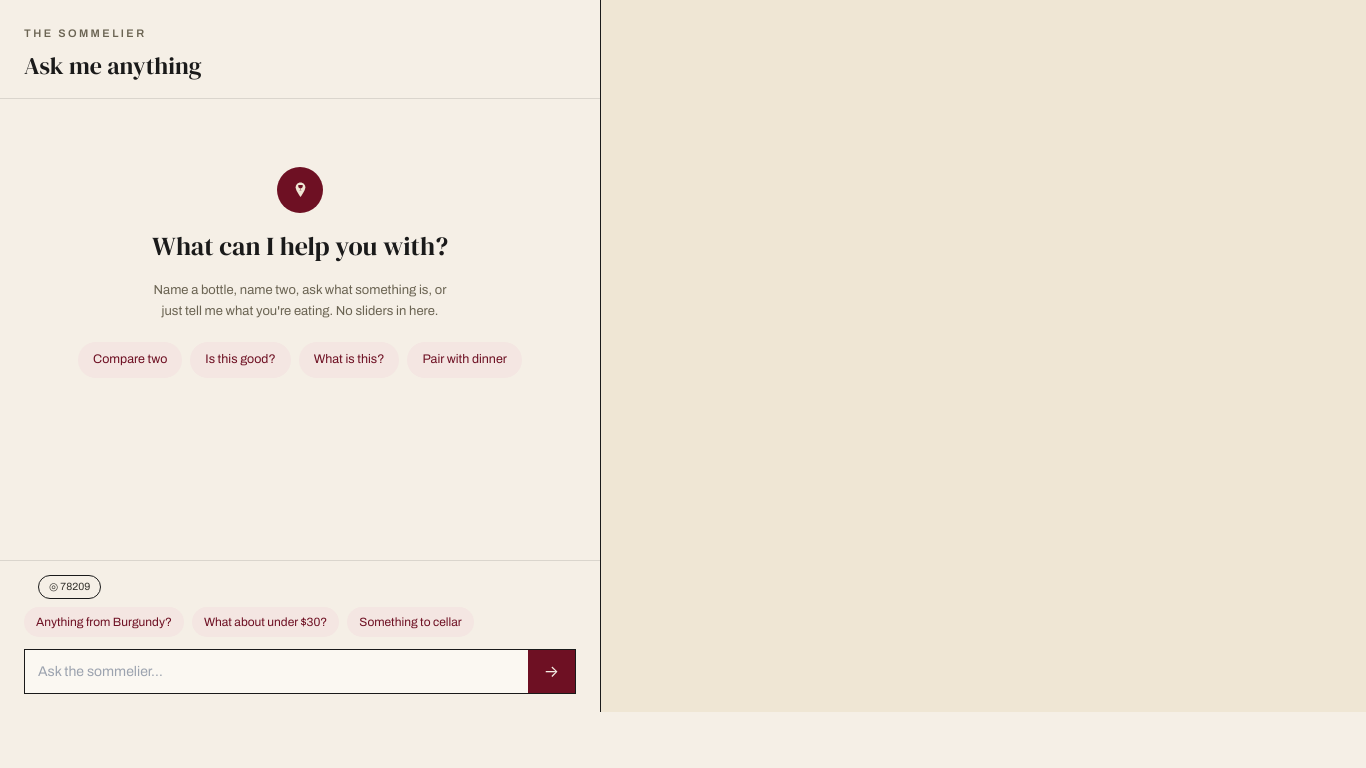
Test case: an intent pill fills the composer
Click the button "Compare two" at (130, 360), box [78,342,182,378]
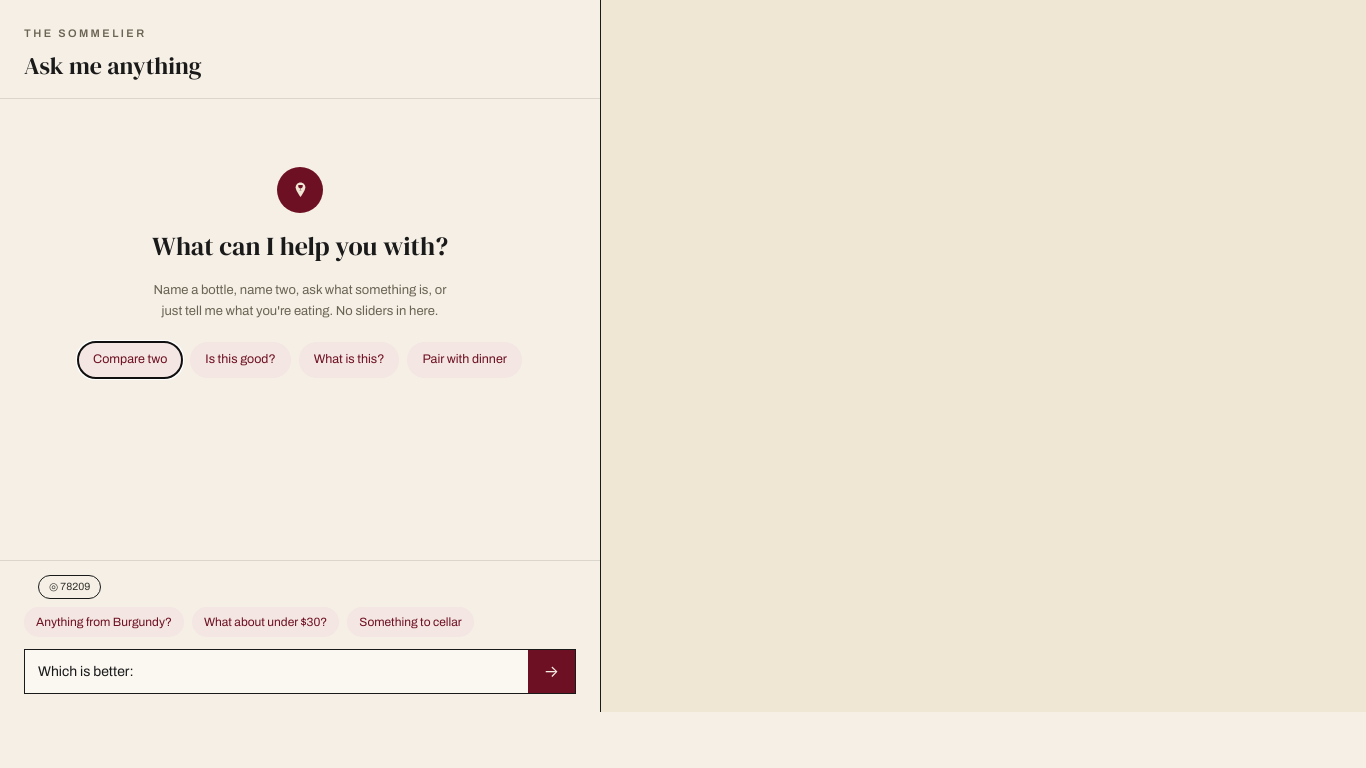
Result: the field holds "Which is better: " at [25,650,528,693]
